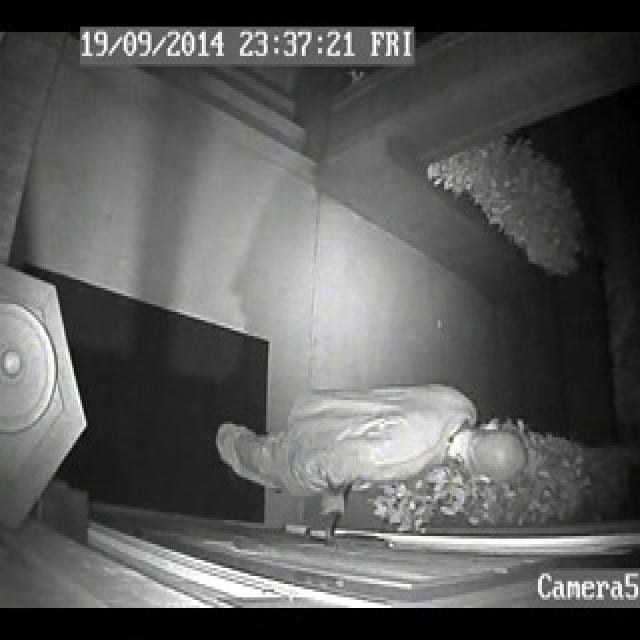thief: (216, 375, 530, 528)
